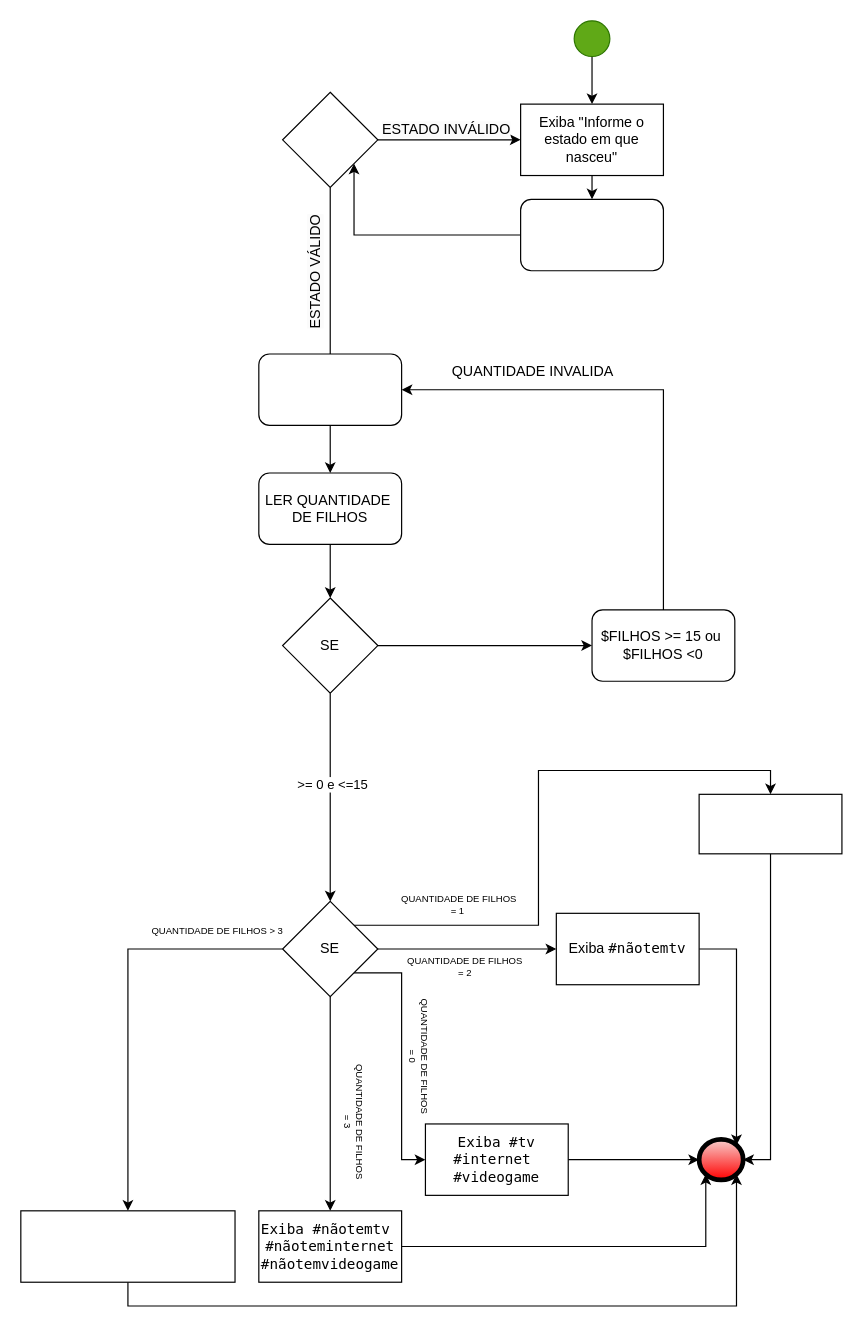
Some shapes in this 863 by 1336 pixel diagram are drawn without their labels. Each missing label, with the centre of its shape:
Exiba "Informe quantidade de filhos": point 330,389
Exiba #cresceiemultiplicaivos: point 127,1246
Exiba #nãotemvideogame: point 770,823
LER ESTADO: point 591,234
